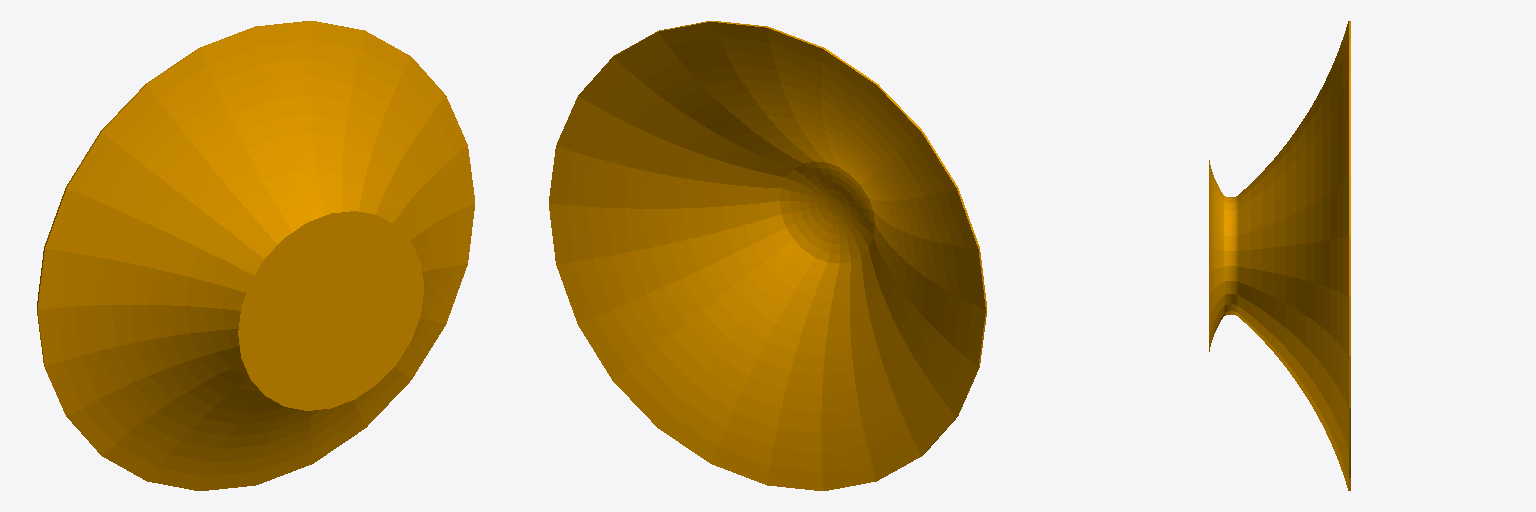
robot.urdf — indenter:
<robot name="indenter">
	<!-- <link name="world">
        </link>

        <joint name="world_to_indenter" type="prismatic">
                <parent link="world"/>
                <child link="indenter"/>
                <origin rpy="0.0 0.0 0.0" xyz="0.0 0.0 0.0"/>
                <axis xyz="0 1 0"/>
                <dynamics damping="0.0" friction="0.0"/>
                <limit lower="0.0" upper="0.4" velocity="1e9" effort="1e9"/>
        </joint> -->

	<link name="indenter">
		<visual>
			<origin rpy="0.0 0.0 0.0" xyz="0.0 0.0 0.0"/>
			<geometry>
				<mesh filename="../../meshes/target_objects/bowl_e_shapenet.obj"/>
			</geometry>
		</visual>
		<collision>
			<origin rpy="0.0 0.0 0.0" xyz="0.0 0.0 0.0"/>
			<geometry>
				<mesh filename="../../meshes/target_objects/bowl_e_shapenet.obj"/>
			</geometry>
		</collision>
		<inertial>
			<origin rpy="0.0 0.0 0.0" xyz="0.0 -8.64389e-3 0.0"/>
			<mass value="0.00224114"/>
			<inertia ixx="6.25553e-8" iyy="4.07645e-8" izz="6.25353e-8" ixy="0.0" ixz="4.69820e-15" iyz="0.0"/>
		</inertial>
	</link>
</robot>

--- Facts derived from the render (not from the file) ---
3 views of the same robot in one strip: view 1: azimuth 30°, elevation 25°; view 2: azimuth 150°, elevation 25°; view 3: azimuth 270°, elevation 25° (orthographic).
Model indenter with 1 links and 0 joints (none), rooted at indenter, posed all joints at 0.
Visible links, largest first — view 1: indenter; view 2: indenter; view 3: indenter.
Link boxes in pixels (box(x1,y1,x2,y2)): indenter: box(37, 21, 474, 490); indenter: box(549, 21, 986, 490); indenter: box(1209, 21, 1350, 490).
Bounding box of the posed robot: 0.2493 × 0.0749 × 0.2493 m (x, y, z).
1 mesh visuals loaded from 1 distinct referenced files (1 OBJ).